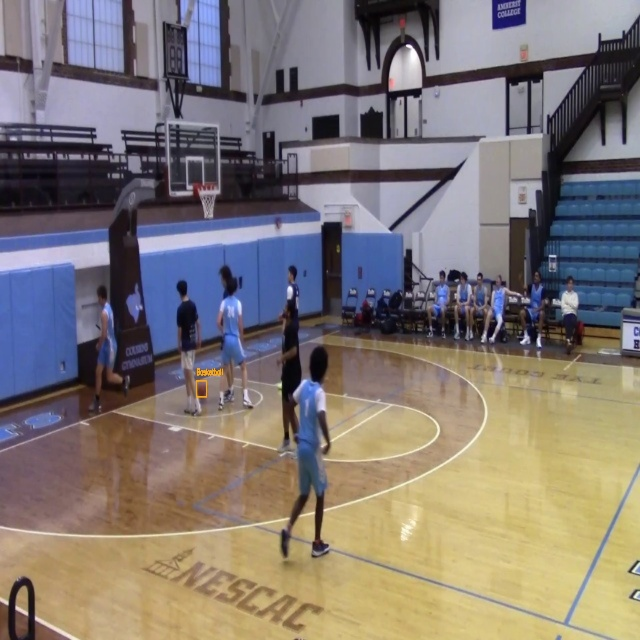Basketball: (197, 381, 207, 397)
